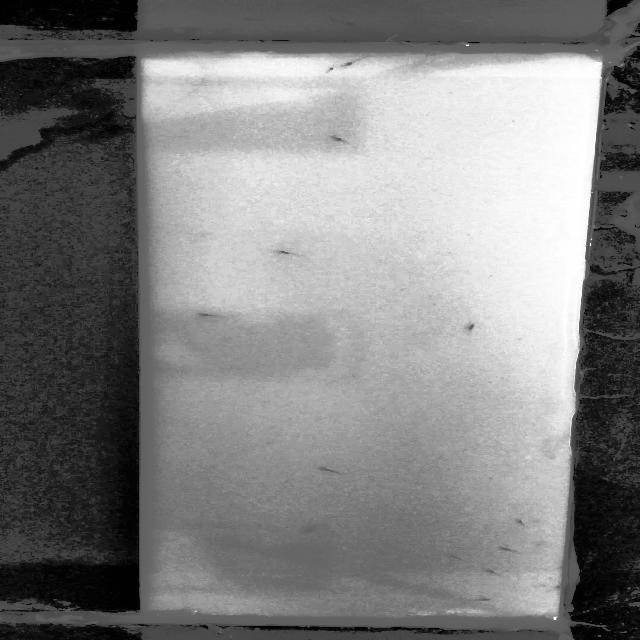shrimp: (327, 132, 354, 146), (315, 467, 348, 478), (296, 523, 322, 535), (338, 59, 366, 70), (457, 324, 482, 334), (496, 546, 522, 555), (194, 312, 223, 319), (278, 248, 302, 256), (512, 516, 528, 526), (476, 594, 492, 603), (448, 554, 464, 562), (326, 66, 338, 74), (484, 569, 498, 575)
